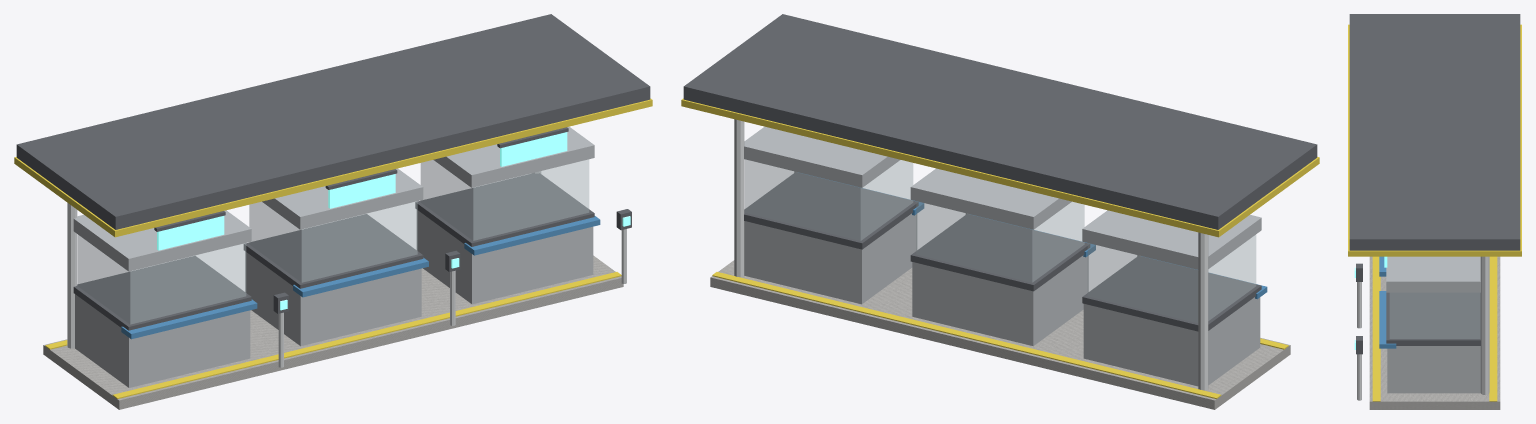
Rendered from ferry-terminal-and-harbour-crossing-ferry-terminal-and-04de3c87__35637.glb.
3 views of the same model, side by side, from view 1: azimuth 30°, elevation 25°; view 2: azimuth 150°, elevation 25°; view 3: azimuth 270°, elevation 25° (orthographic). The views are drawn at different scales.
Parts seen in each view (by area): view 1: ferry-terminal-and-harbour-crossing-check-in-booth-run; view 2: ferry-terminal-and-harbour-crossing-check-in-booth-run; view 3: ferry-terminal-and-harbour-crossing-check-in-booth-run.
Boxes of the visible parts, left/top/right/bottom form: ferry-terminal-and-harbour-crossing-check-in-booth-run: left=14, top=14, right=652, bottom=409; ferry-terminal-and-harbour-crossing-check-in-booth-run: left=681, top=14, right=1319, bottom=409; ferry-terminal-and-harbour-crossing-check-in-booth-run: left=1348, top=14, right=1521, bottom=409.
Size of the model in its own units: 10.66 by 3.89 by 3.46.
8 materials, 1 textured.
